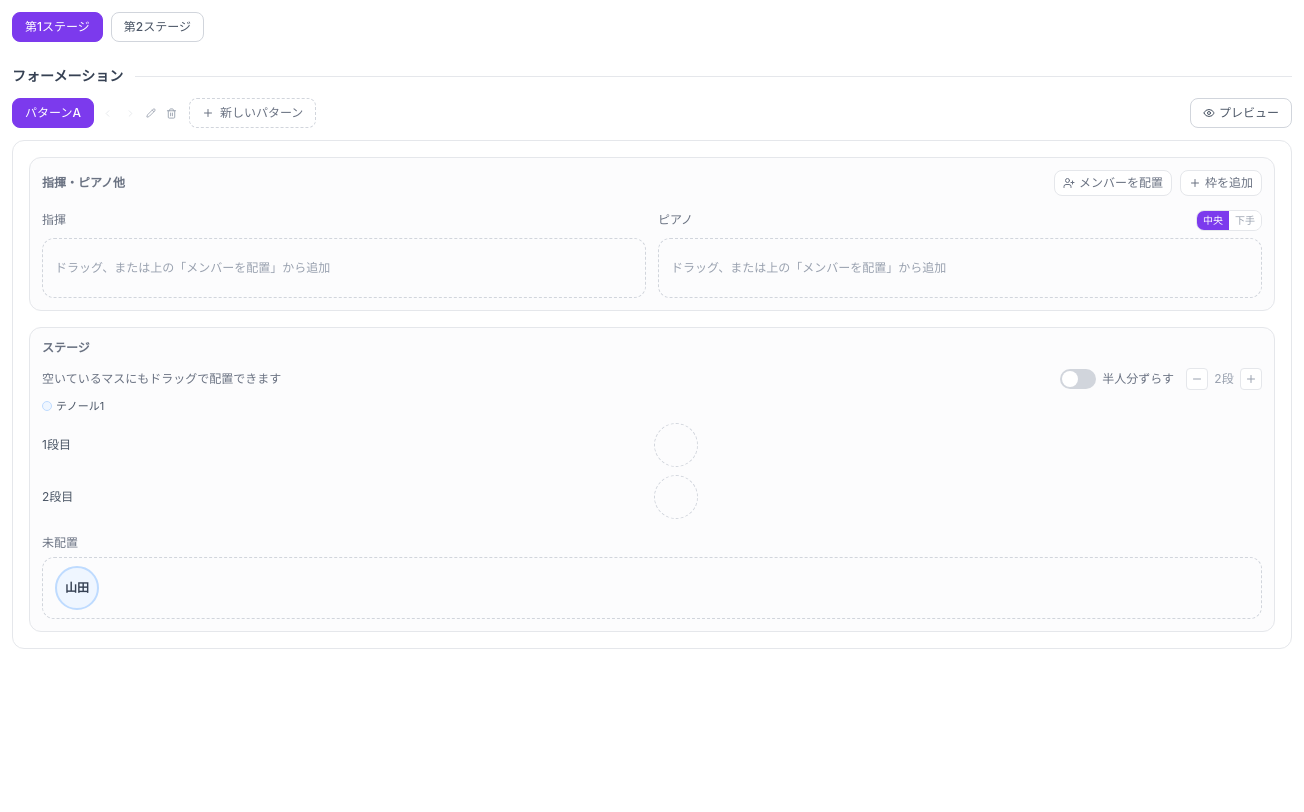
Test case: OnstageTab（ステージ切替） › ステージが複数ある場合は切替チップを表示し、クリックで切り替わる
This screenshot has width=1304, height=812.
Check: the button "パターンA" is shown, box 12,98 -> 94,128
Click the button "第2ステージ".
click(157, 27)  # box 111,12 -> 204,42
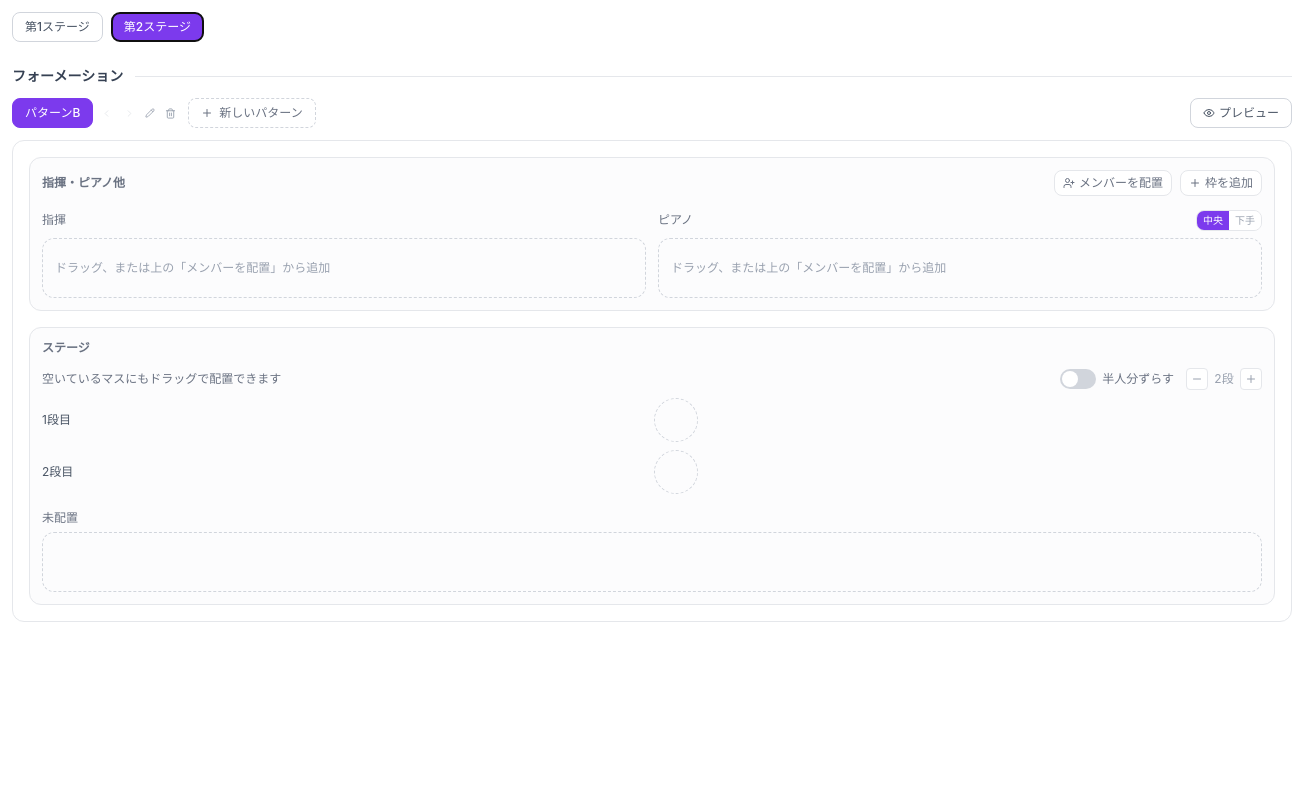
Check: the button "パターンB" is shown, box 12,98 -> 93,128
